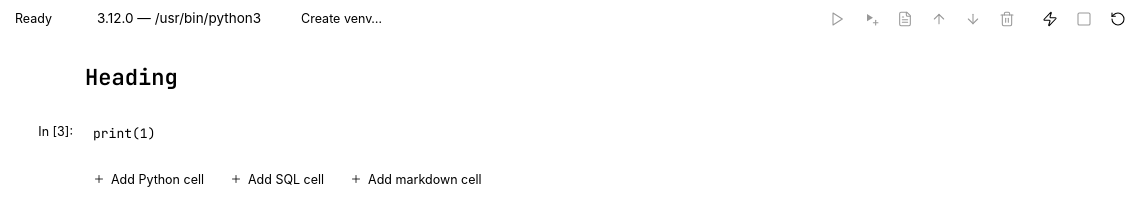
NotebookView › disables the toolbar's cell actions until a cell is selected
This screenshot has width=1141, height=204.
Expected: the button titled "Run cell" is disabled, [824,6,850,32]
Expected: the button titled "Delete cell" is disabled, [994,6,1020,32]
Press the mouse on the element showing "In [3]: print(1)" at (97, 133), box [38,124,156,142]
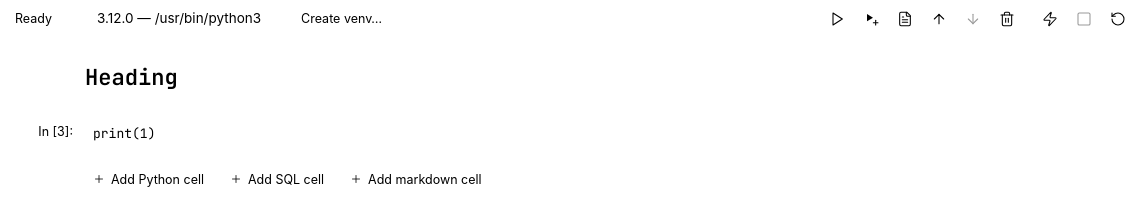
Now the button titled "Run cell" is enabled, box [824,6,850,32]
Now the button titled "Delete cell" is enabled, box [994,6,1020,32]
